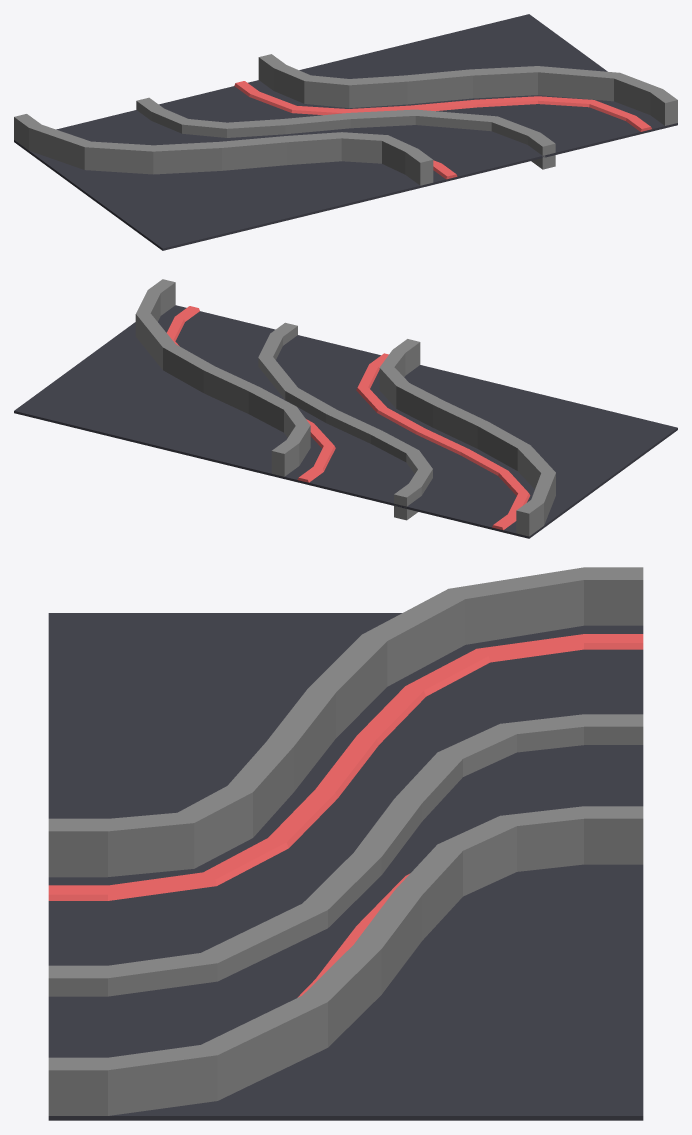
The model's file is kartkids_base_trk_120_chn_scurve_l_2x1.glb.
3 renders of one model, top to bottom at view 1: azimuth 30°, elevation 25°; view 2: azimuth 150°, elevation 25°; view 3: azimuth 270°, elevation 25°, orthographic. The views are drawn at different scales.
Parts seen in each view (by area): view 1: kartkids_base_trk_010_rd_straight_1x1.034, kartkids_base_trk_020_trn_90_l_1x1.030, kartkids_base_trk_020_trn_90_l_1x1.032, kartkids_base_trk_020_trn_90_l_1x1.031; view 2: kartkids_base_trk_010_rd_straight_1x1.034, kartkids_base_trk_020_trn_90_l_1x1.030, kartkids_base_trk_020_trn_90_l_1x1.032, kartkids_base_trk_020_trn_90_l_1x1.031; view 3: kartkids_base_trk_010_rd_straight_1x1.034, kartkids_base_trk_020_trn_90_l_1x1.030, kartkids_base_trk_020_trn_90_l_1x1.032, kartkids_base_trk_020_trn_90_l_1x1.031.
Part boxes in pixels (x1,y1,x2,y2): kartkids_base_trk_010_rd_straight_1x1.034: (14, 14, 677, 250); kartkids_base_trk_020_trn_90_l_1x1.030: (14, 54, 677, 185); kartkids_base_trk_020_trn_90_l_1x1.032: (136, 97, 555, 169); kartkids_base_trk_020_trn_90_l_1x1.031: (234, 81, 651, 179); kartkids_base_trk_010_rd_straight_1x1.034: (14, 305, 677, 538); kartkids_base_trk_020_trn_90_l_1x1.030: (135, 279, 555, 536); kartkids_base_trk_020_trn_90_l_1x1.032: (258, 322, 432, 520); kartkids_base_trk_020_trn_90_l_1x1.031: (167, 306, 530, 530); kartkids_base_trk_010_rd_straight_1x1.034: (48, 613, 643, 1120); kartkids_base_trk_020_trn_90_l_1x1.030: (48, 567, 643, 1115); kartkids_base_trk_020_trn_90_l_1x1.032: (48, 714, 643, 996); kartkids_base_trk_020_trn_90_l_1x1.031: (48, 634, 643, 997).
Size of the model in its own units: 20 by 1.36 by 10.
